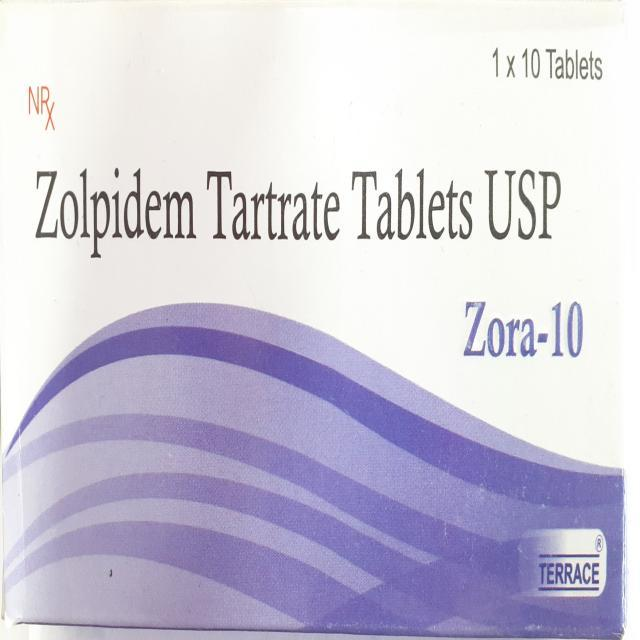drug-name: (456, 294, 592, 360)
